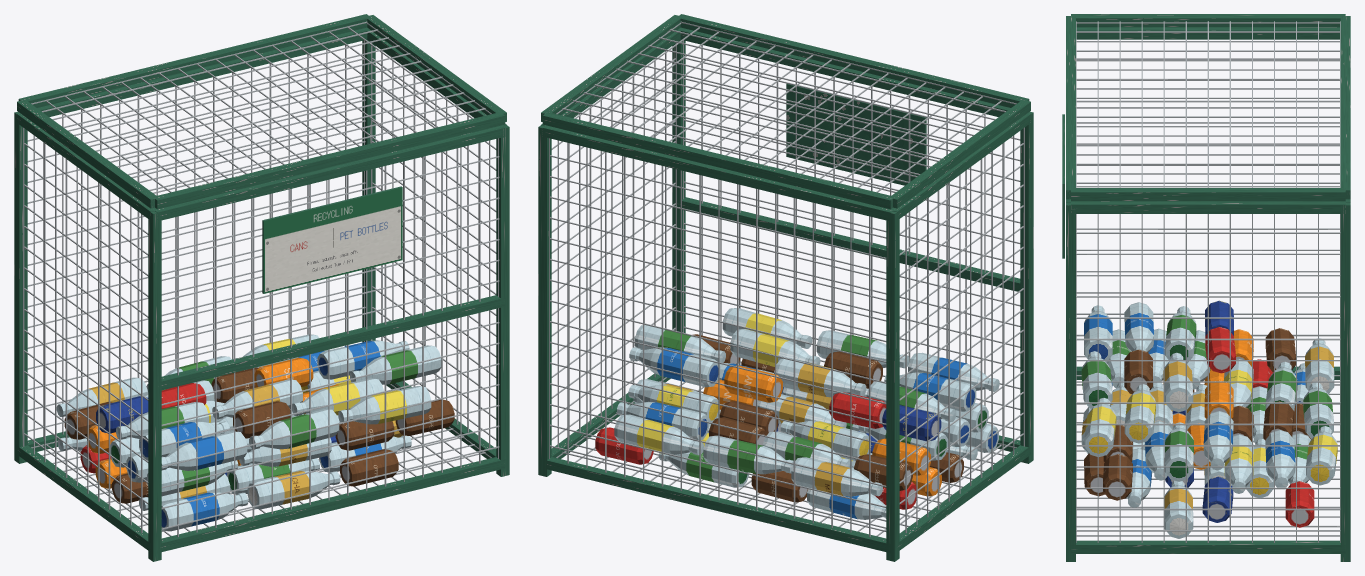
File: recycle_cage.glb
3 renders of one model, left to right at view 1: azimuth 30°, elevation 25°; view 2: azimuth 150°, elevation 25°; view 3: azimuth 270°, elevation 25°, orthographic. The views are drawn at different scales.
Visible parts, largest first — view 1: box; view 2: box; view 3: box.
Part boxes in pixels (<box>): box: <box>14,14,509,561</box>; box: <box>538,14,1033,561</box>; box: <box>1062,14,1350,561</box>.
Bounding box in the file's own units: 0.922 × 0.891 × 0.63.
11 materials, 11 textured.
